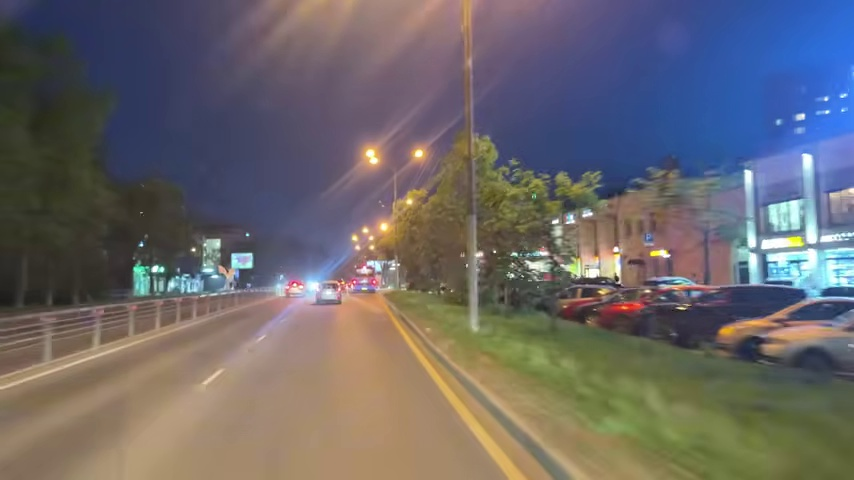acesa: (360, 144, 383, 169), (409, 144, 429, 163), (801, 154, 815, 173)
